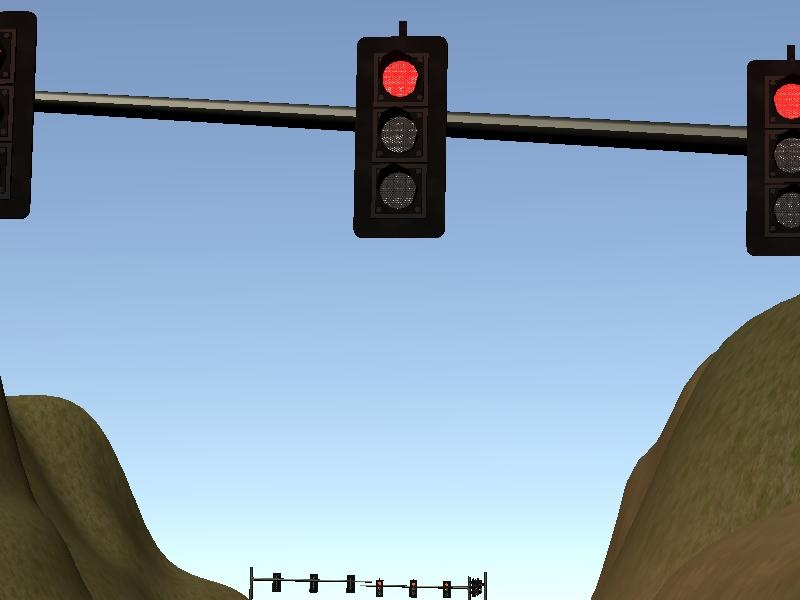RED: (352, 35, 450, 240), (744, 59, 800, 256)
